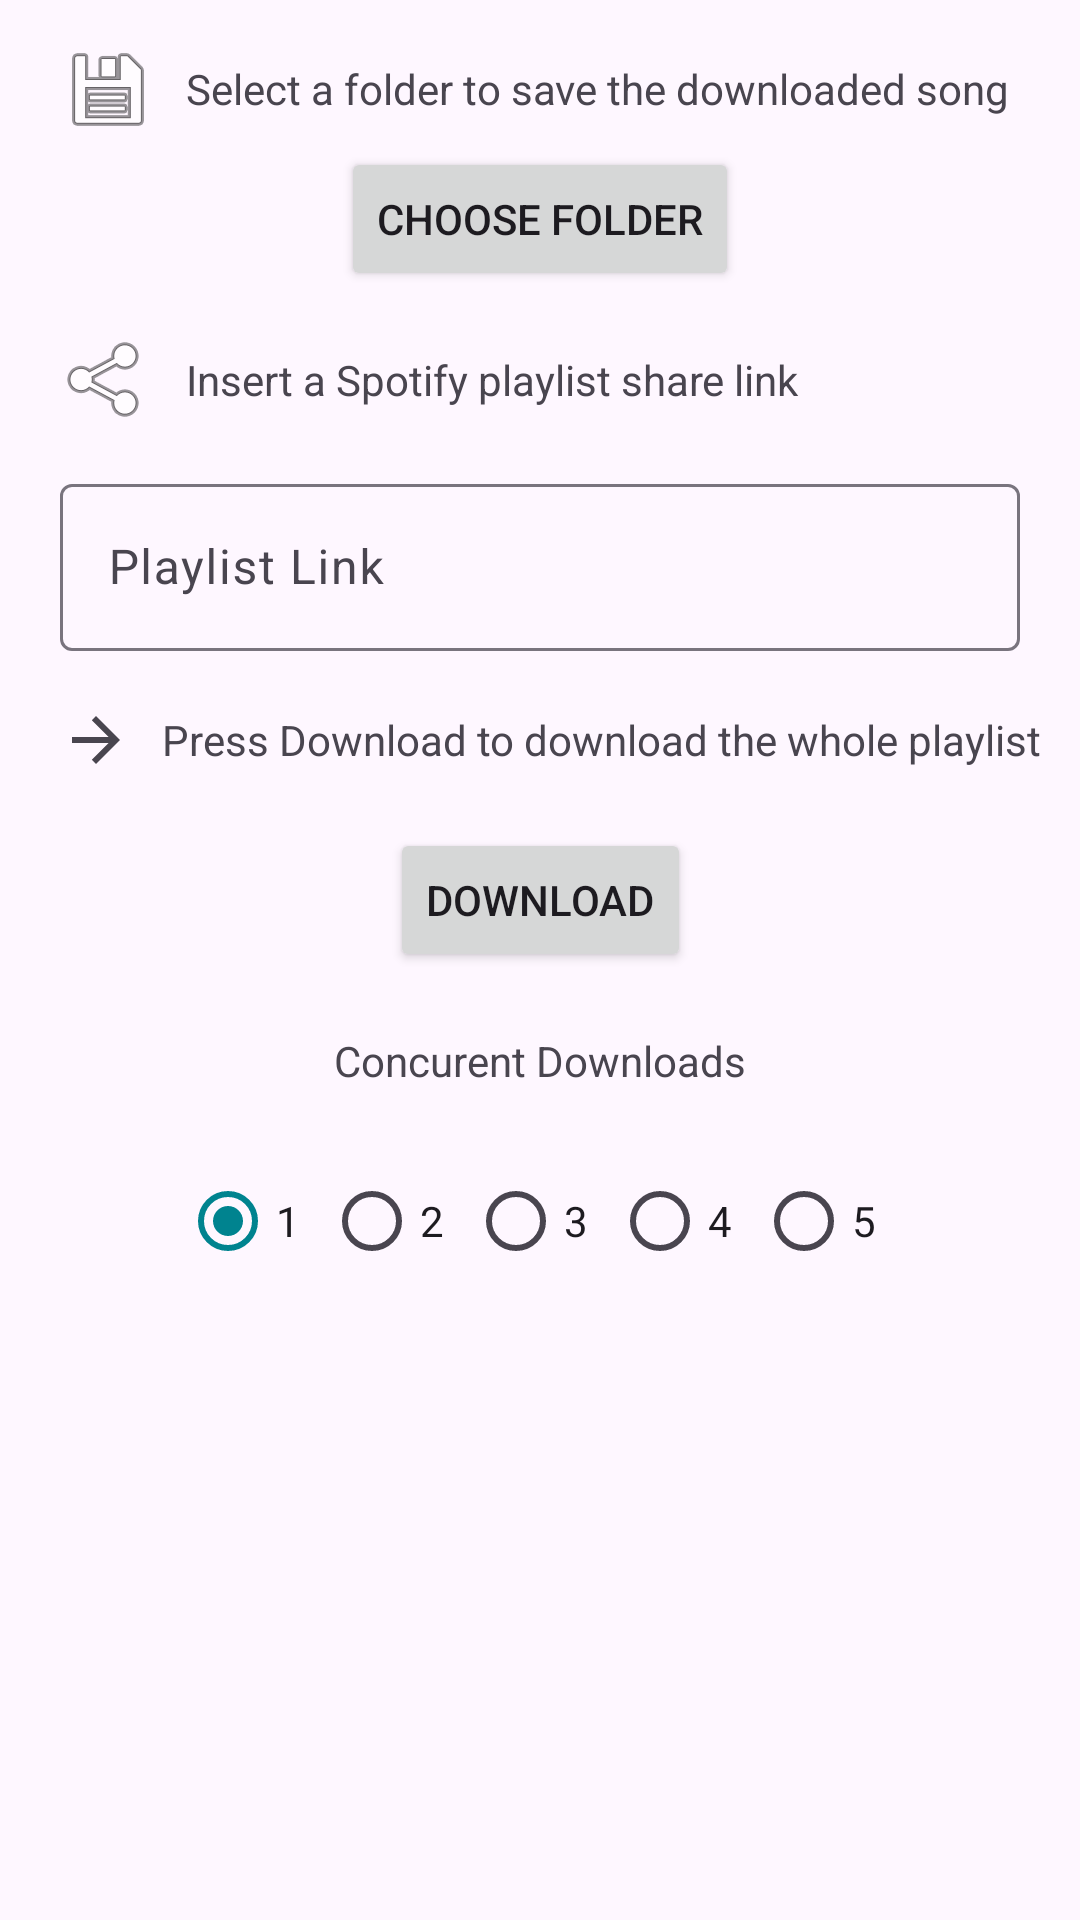

Where to tap for icons on this 1080px x 1920px app screen, as point (x, y):
Storage Icon: point (108, 89)
